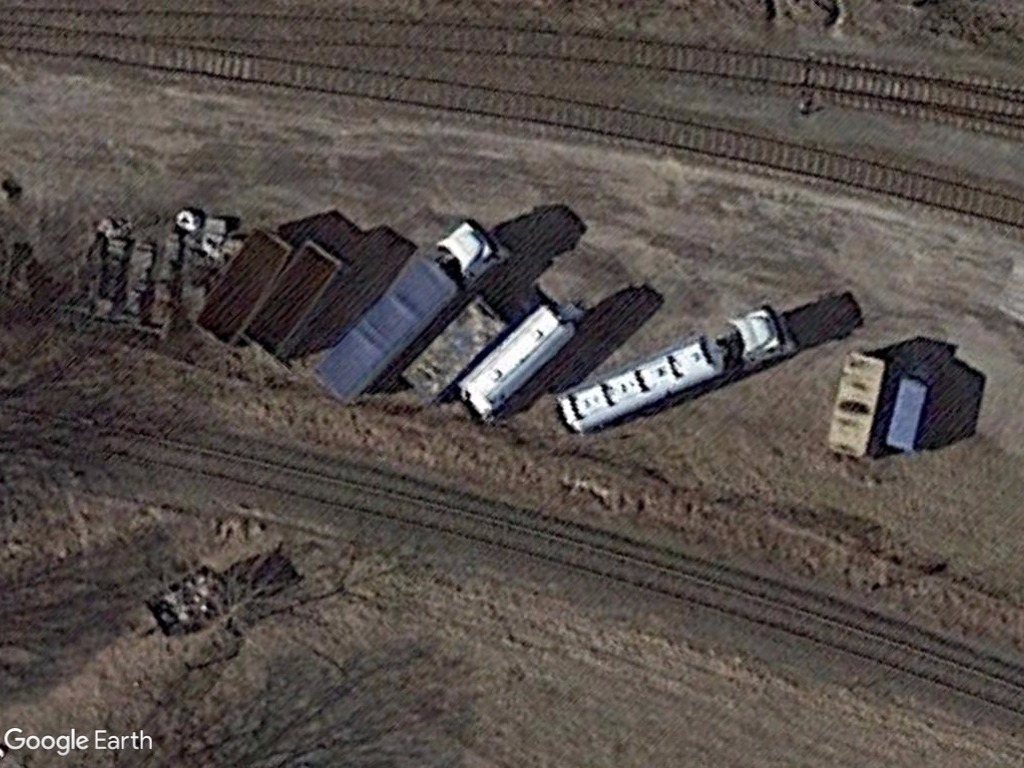longvehicle: (559, 299, 805, 436), (455, 296, 581, 424)
other: (309, 205, 510, 400)
